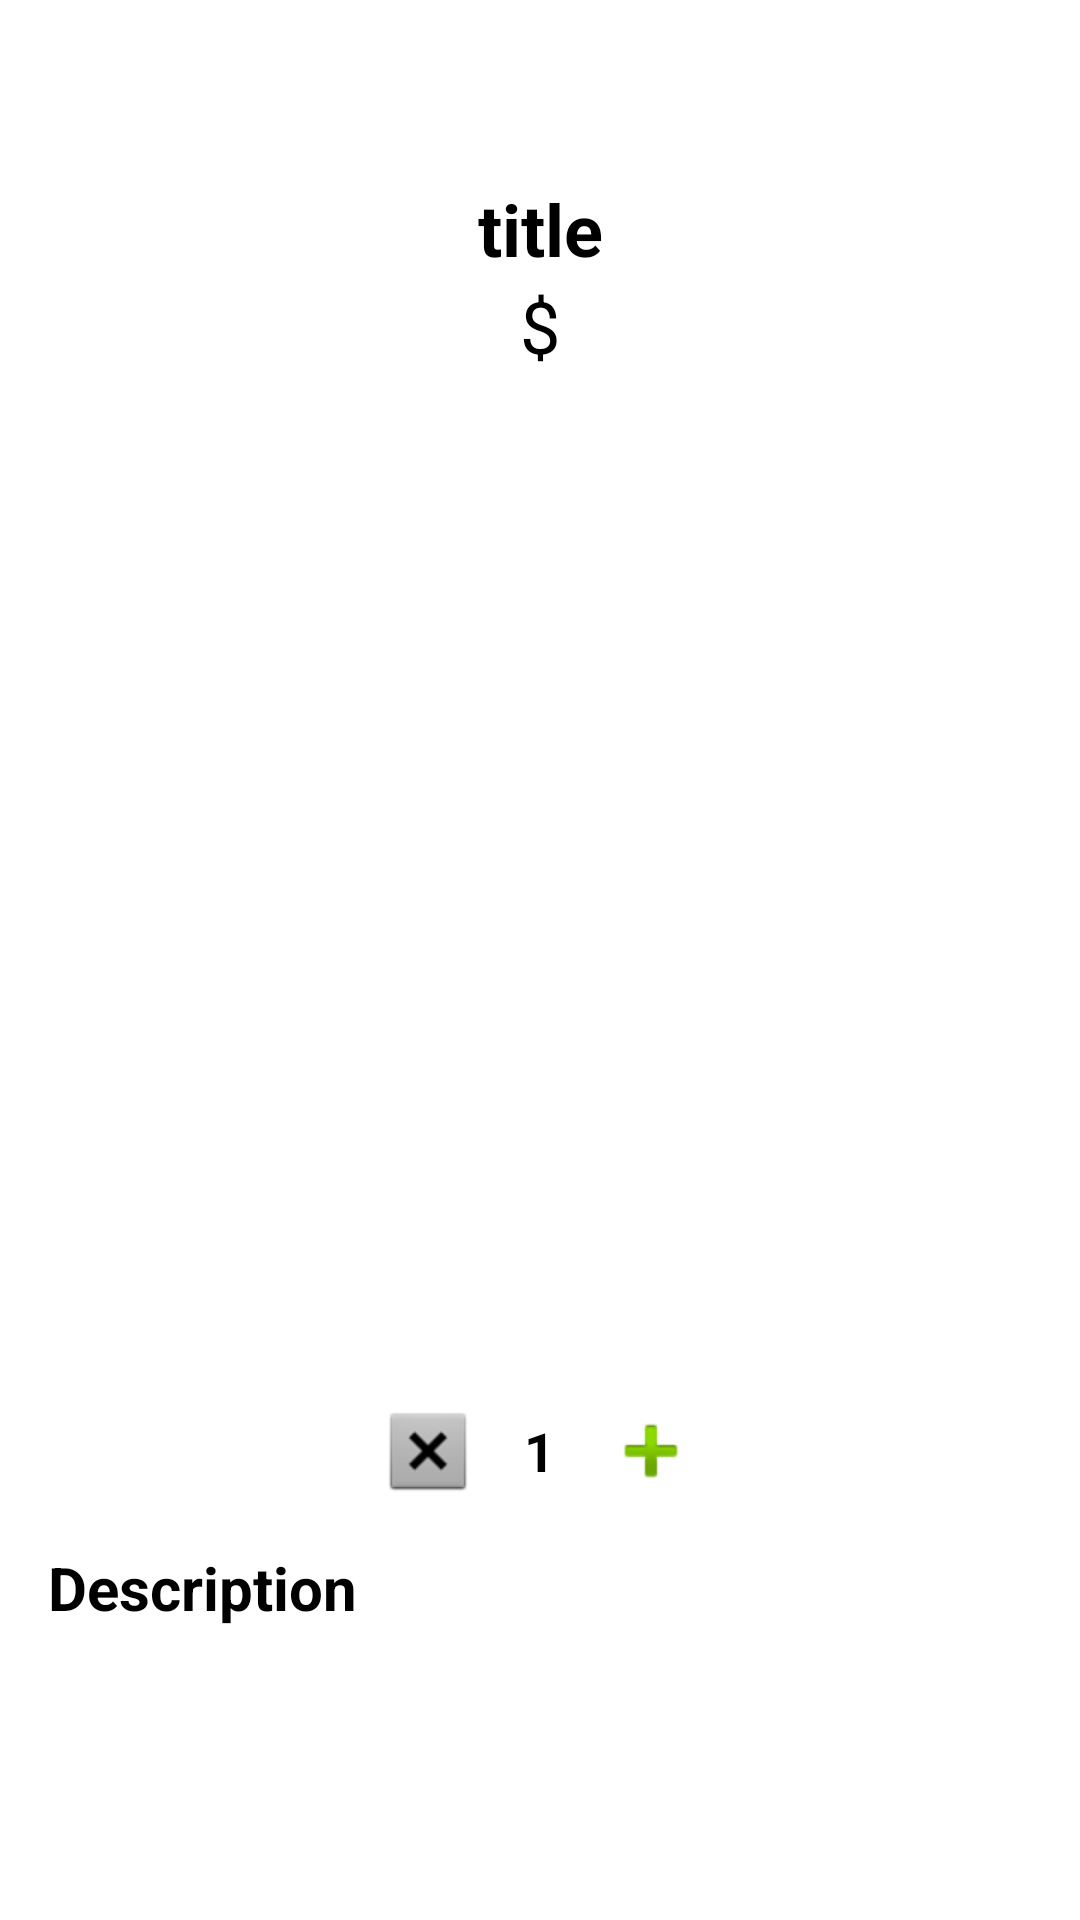

Point at icon controls on the screen. Image size 1080x1920, points as [x,y].
add: [651,1451]
